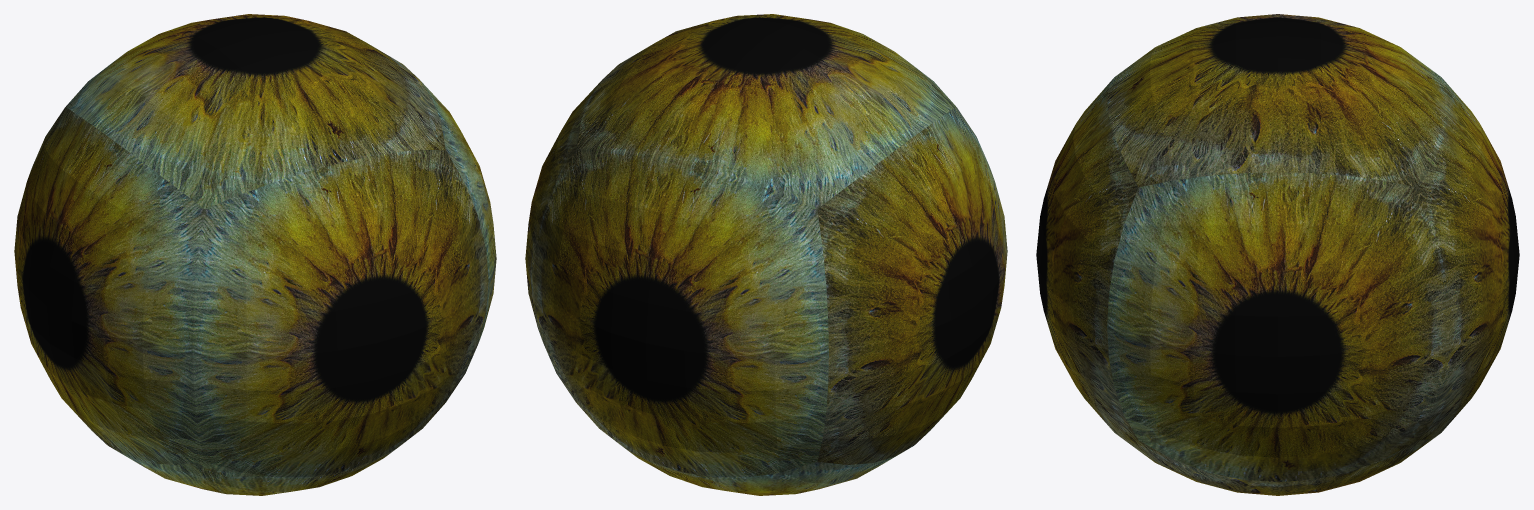
The model's file is Eye.fbx.
3 views of the same model, side by side, from view 1: azimuth 30°, elevation 25°; view 2: azimuth 150°, elevation 25°; view 3: azimuth 270°, elevation 25° (orthographic).
Visible parts, largest first — view 1: Roundcube; view 2: Roundcube; view 3: Roundcube.
Part boxes in pixels (left/top/right/bottom): Roundcube: left=14, top=14, right=496, bottom=495; Roundcube: left=525, top=14, right=1007, bottom=495; Roundcube: left=1036, top=14, right=1519, bottom=495.
Size of the model in its own units: 200 by 200 by 200.
